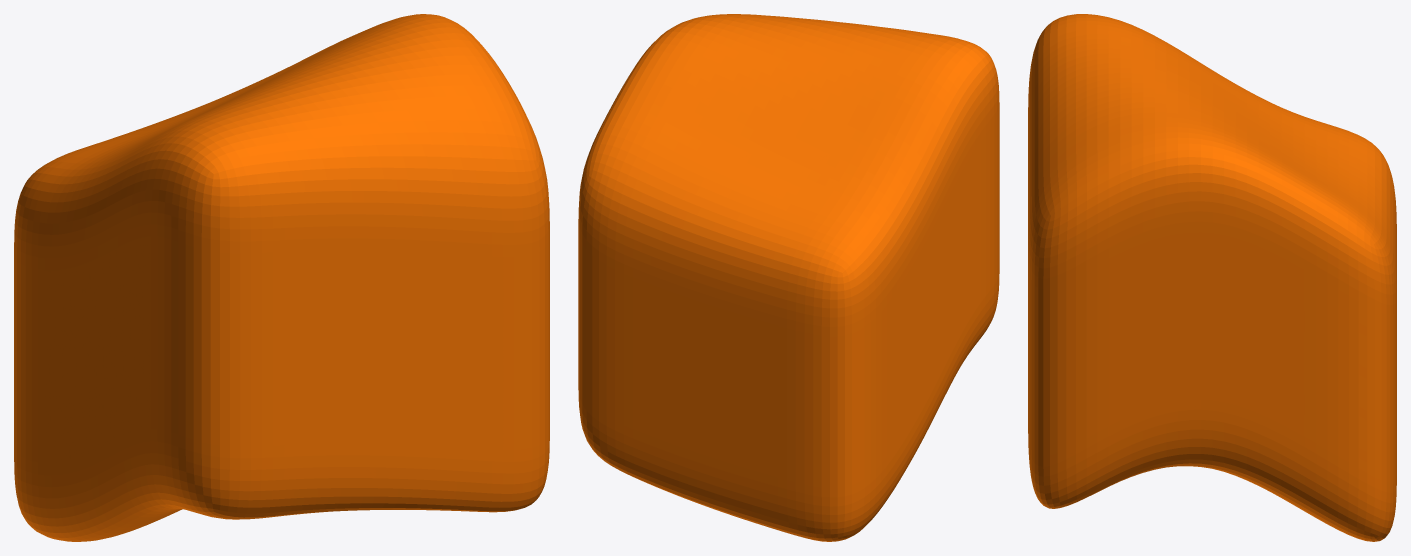
The picture shows the model from 3 angles, left to right: view 1: azimuth 30°, elevation 25°; view 2: azimuth 150°, elevation 25°; view 3: azimuth 270°, elevation 25°; orthographic projection. The views are drawn at different scales.
Visible parts, largest first — view 1: smooth_1_base.005; view 2: smooth_1_base.005; view 3: smooth_1_base.005.
Boxes of the visible parts, x1,y1,x2,y2 form: smooth_1_base.005: (14,14,549,541); smooth_1_base.005: (578,14,999,541); smooth_1_base.005: (1028,14,1396,541).
Size of the model in its own units: 60 by 80.14 by 60.
